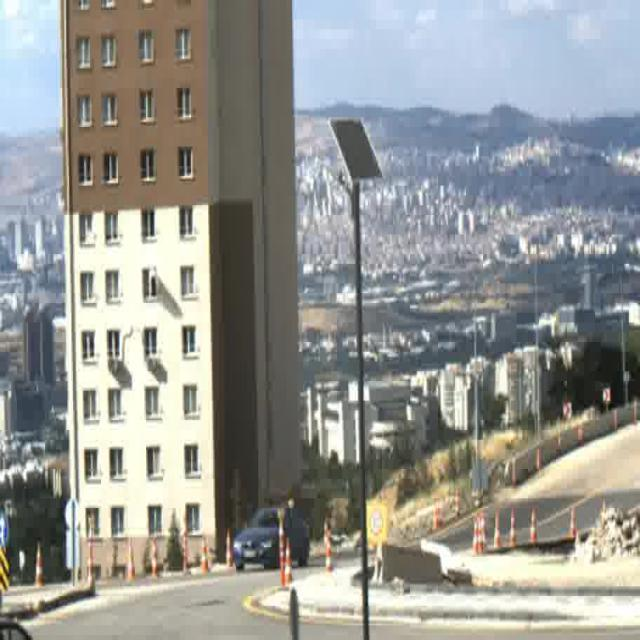Car: (233, 506, 310, 570), (0, 618, 29, 640)
